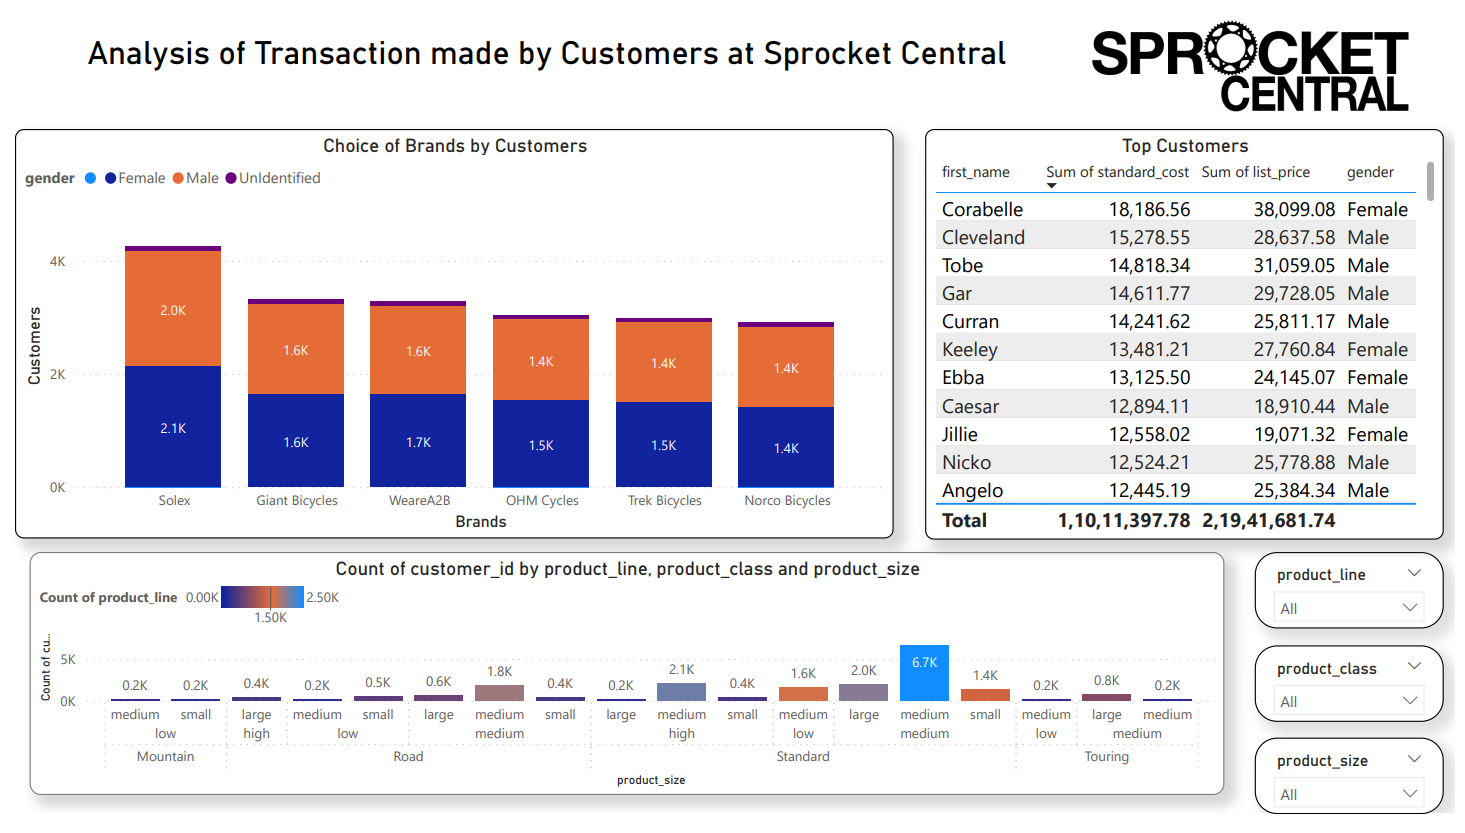

The dashboard page shown, as its layout file describes it:
{"tool":"powerbi","page":{"name":"Transaction Analysis","canvas":[1280,720],"ordinal":1},"visuals":[{"type":"slicer","fields":{"Values":["transactions.product_line"]},"box":[1102.2,488.4,168.2,67.8],"z":0},{"type":"slicer","fields":{"Values":["transactions.product_class"]},"box":[1102.2,571.2,168.2,67.8],"z":1000},{"type":"slicer","fields":{"Values":["transactions.product_size"]},"box":[1102.2,652.8,168.2,67.8],"z":2000},{"type":"columnChart","title":"Choice of Brands by Customers","fields":{"Category":["transactions.brand"],"Y":["transactions.customer_id"],"Series":["transactions.gender"]},"box":[0,112.5,781.1,363.1],"z":3000},{"type":"columnChart","fields":{"Category":["transactions.product_line","transactions.product_class","transactions.product_size"],"Y":["transactions.customer_id"]},"box":[12.6,488.4,1062.1,215.9],"z":4000},{"type":"tableEx","title":"Top Customers","fields":{"Values":["transactions.first_name","transactions.standard_cost","transactions.list_price","transactions.gender"]},"box":[809.2,112.5,460.8,364.3],"z":5000},{"type":"textbox","box":[12.2,22,921.7,57.5],"z":6000},{"type":"image","box":[952.3,0,299.5,132],"z":7000}]}

Visuals, with their boxes in screenshot pixels (x1, y1, x2, y2), scaled from the page's 1280x720 canvas onto the 1465x833 screenshot:
slicer - transactions.product_line: 1262:565:1454:643
slicer - transactions.product_class: 1262:661:1454:739
slicer - transactions.product_size: 1262:755:1454:832
"Choice of Brands by Customers" columnChart: 0:130:894:550
columnChart - transactions.product_line x transactions.product_class: 14:565:1230:815
"Top Customers" tableEx: 926:130:1454:552
textbox: 14:25:1069:92
image: 1090:0:1433:153
